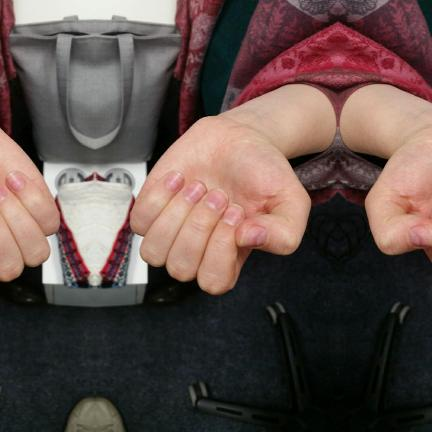Nail: (239, 225, 266, 247), (204, 187, 228, 210), (182, 181, 205, 204), (408, 225, 432, 247), (221, 203, 242, 225), (164, 171, 183, 191), (5, 171, 24, 191), (0, 184, 6, 201), (432, 209, 432, 214)
